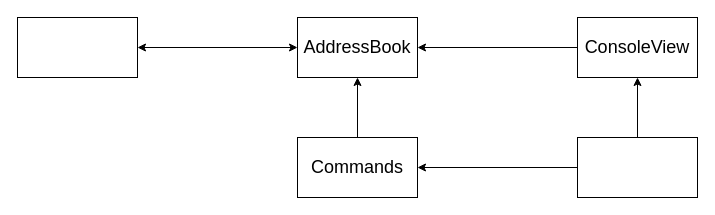
This 715x215 diagram has some shape labels left out. The shapes that lost their labels are listed below. From the top down, each one's centre as x and y in pixels, then its label:
At [77,47]: "Contact".
At [637,167]: "Utils".
